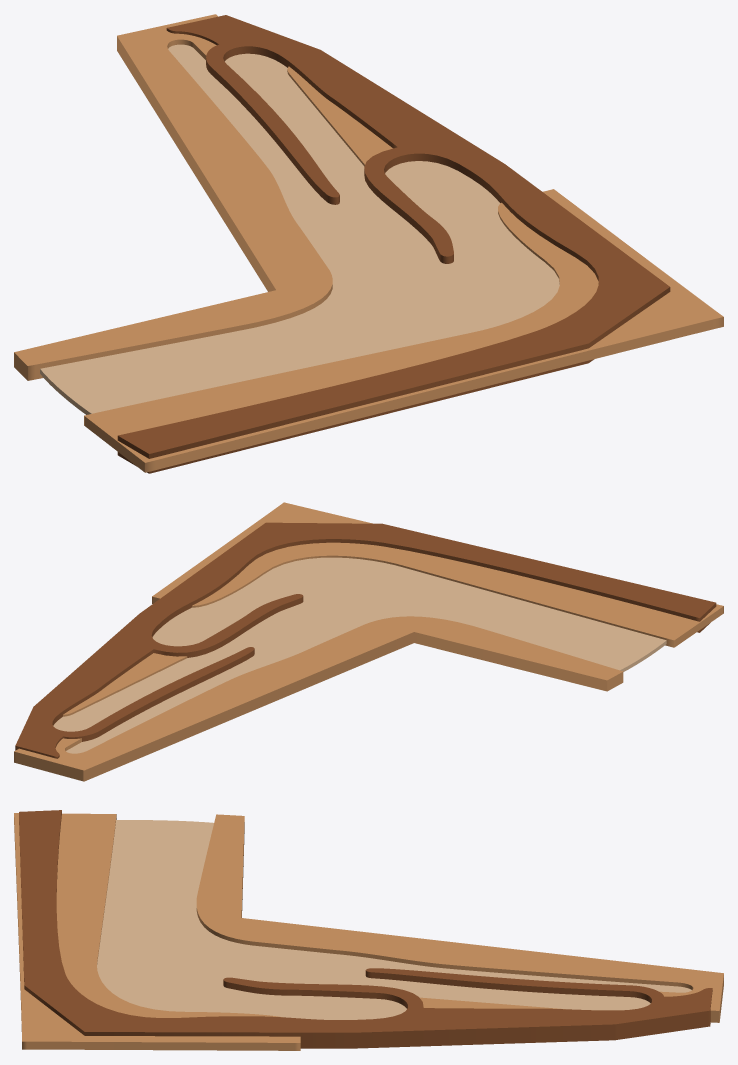
File: emoji_u1faf8_1f3fc.glb
3 renders of one model, top to bottom at view 1: azimuth 30°, elevation 25°; view 2: azimuth 150°, elevation 25°; view 3: azimuth 270°, elevation 25°, orthographic. The views are drawn at different scales.
Parts seen in each view (by area): view 1: emoji_u1faf8_1f3fc; view 2: emoji_u1faf8_1f3fc; view 3: emoji_u1faf8_1f3fc.
Part boxes in pixels (box(x1,y1,x2,y2)): emoji_u1faf8_1f3fc: box(14, 14, 723, 473); emoji_u1faf8_1f3fc: box(14, 502, 723, 781); emoji_u1faf8_1f3fc: box(14, 810, 723, 1050).
Bounding box in the file's own units: 0.0248 × 0.0008 × 0.0324.
